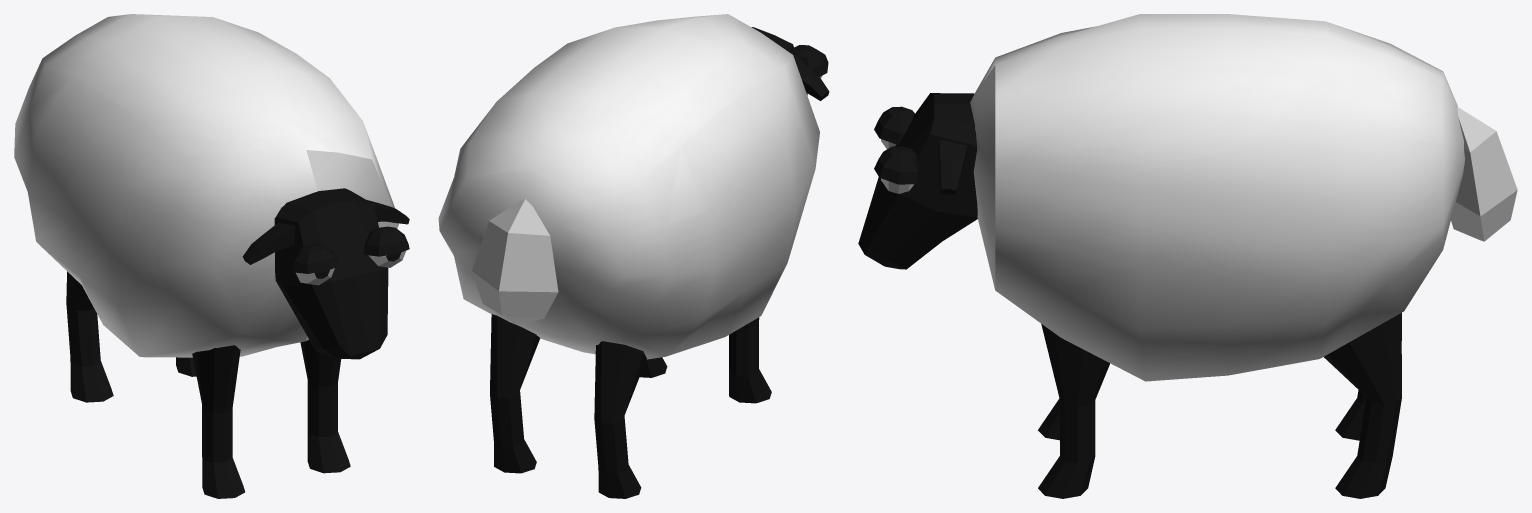
The model's file is low-sheep-furry-v1.2.fbx.
3 renders of one model, left to right at view 1: azimuth 30°, elevation 25°; view 2: azimuth 150°, elevation 25°; view 3: azimuth 270°, elevation 25°, orthographic. The views are drawn at different scales.
Visible parts, largest first — view 1: Body, Head, Leg-Front-Right, Leg-Front-Left, Leg-Back-Right, Ear.Right, Eye.Right|Eye.Lid|Dupli|1, Eye.Left|Eye.Lid|Dupli|1, Ear.Left; view 2: Body, Tail, Leg-Back-Right, Leg-Back-Left, Leg-Front-Right, Ear.Right, Eye.Right|Eye.Lid|Dupli|1; view 3: Body, Head, Leg-Back-Left, Leg-Front-Left, Tail, Eye.Left|Eye.Lid|Dupli|1, Ear.Left, Eye.Right|Eye.Lid|Dupli|1, Leg-Back-Right.
Boxes of the visible parts, <box> form: Body: <box>14,14,398,357</box>; Head: <box>274,188,388,359</box>; Leg-Front-Right: <box>192,345,244,498</box>; Leg-Front-Left: <box>300,340,350,473</box>; Leg-Back-Right: <box>66,271,113,402</box>; Ear.Right: <box>242,222,294,264</box>; Eye.Right|Eye.Lid|Dupli|1: <box>290,244,338,273</box>; Eye.Left|Eye.Lid|Dupli|1: <box>364,226,409,256</box>; Ear.Left: <box>366,199,409,224</box>; Body: <box>438,14,819,359</box>; Tail: <box>472,199,558,323</box>; Leg-Back-Right: <box>594,341,646,498</box>; Leg-Back-Left: <box>490,314,540,473</box>; Leg-Front-Right: <box>729,317,771,403</box>; Ear.Right: <box>790,51,829,100</box>; Eye.Right|Eye.Lid|Dupli|1: <box>794,45,828,76</box>; Body: <box>970,14,1464,381</box>; Head: <box>858,93,977,269</box>; Leg-Back-Left: <box>1324,313,1401,498</box>; Leg-Front-Left: <box>1038,324,1109,498</box>; Tail: <box>1451,107,1517,241</box>; Eye.Left|Eye.Lid|Dupli|1: <box>874,146,920,184</box>; Ear.Left: <box>938,140,967,194</box>; Eye.Right|Eye.Lid|Dupli|1: <box>874,106,914,144</box>; Leg-Back-Right: <box>1335,313,1401,440</box>.
Size of the model in its own units: 168 by 231 by 320.
3 materials, 1 textured.
